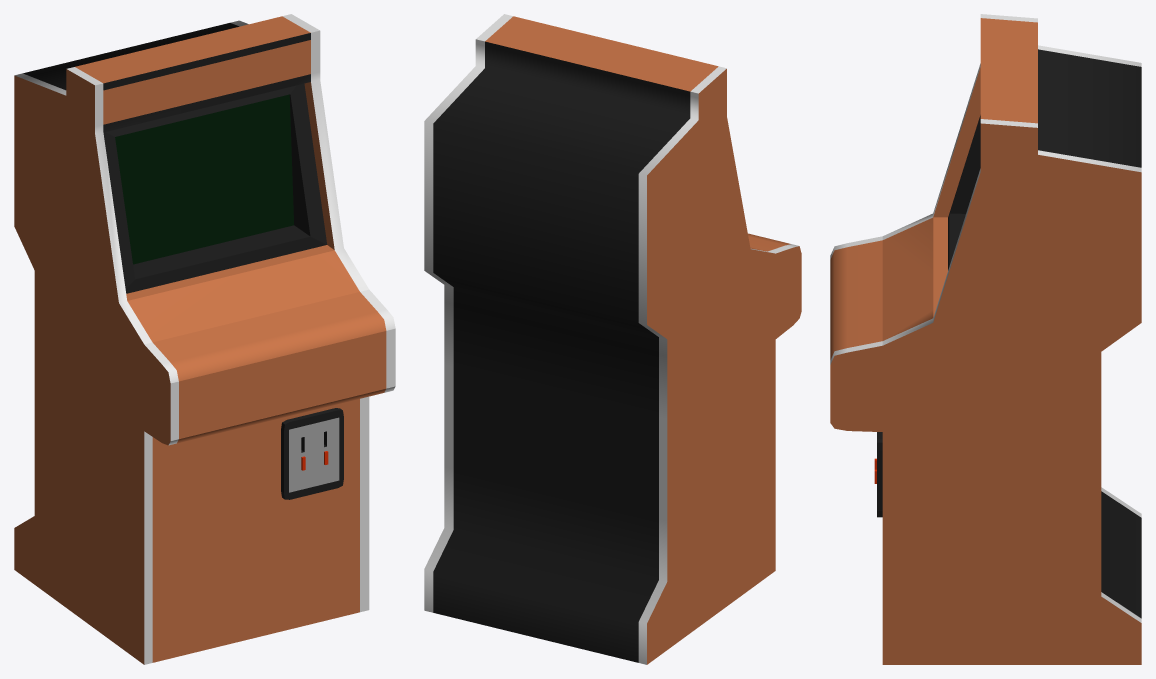
File: arcade_machine.fbx
3 renders of one model, left to right at view 1: azimuth 30°, elevation 25°; view 2: azimuth 150°, elevation 25°; view 3: azimuth 270°, elevation 25°, orthographic.
Parts seen in each view (by area): view 1: pCube1; view 2: pCube1; view 3: pCube1.
Part boxes in pixels (box(x1,y1,x2,y2)): pCube1: box(14, 14, 395, 664); pCube1: box(424, 14, 801, 664); pCube1: box(830, 14, 1141, 664).
Size of the model in its own units: 6.5 by 15 by 7.82.
